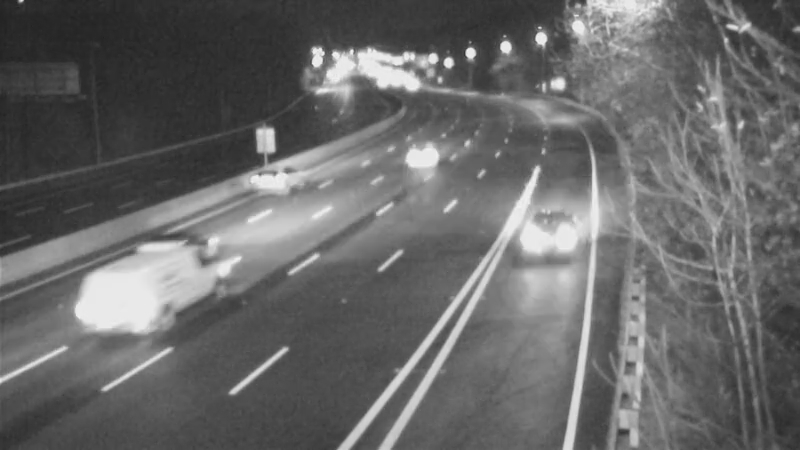vehicle: (245, 139, 325, 219), (500, 201, 580, 281), (119, 245, 199, 325), (407, 119, 457, 169)
